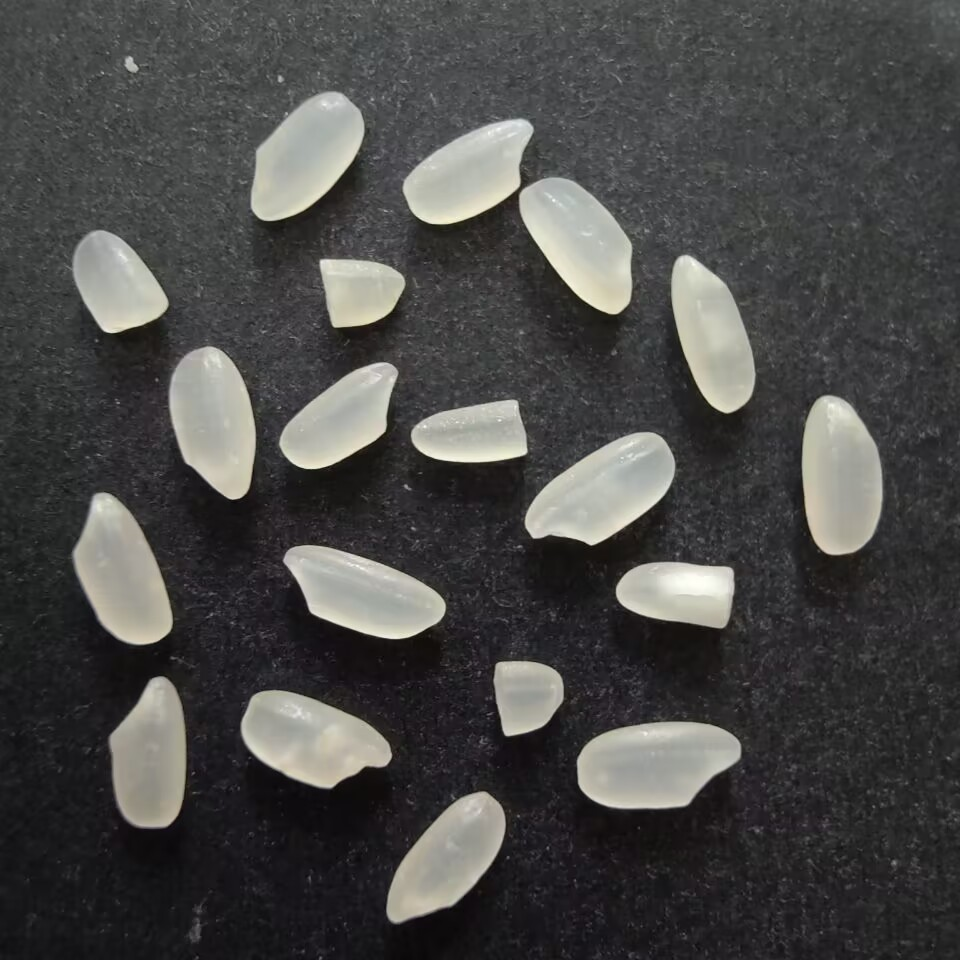broken: (65, 227, 172, 339), (612, 556, 742, 633), (402, 396, 532, 468), (313, 253, 412, 334), (486, 654, 572, 744)
rice: (523, 428, 681, 549), (381, 788, 509, 931), (279, 540, 453, 644), (67, 491, 180, 650), (516, 176, 639, 322), (234, 689, 398, 792), (575, 716, 748, 813), (246, 89, 364, 224), (400, 112, 537, 228), (667, 251, 762, 417), (797, 392, 888, 560), (166, 344, 261, 504), (275, 357, 399, 472), (104, 670, 190, 834)
